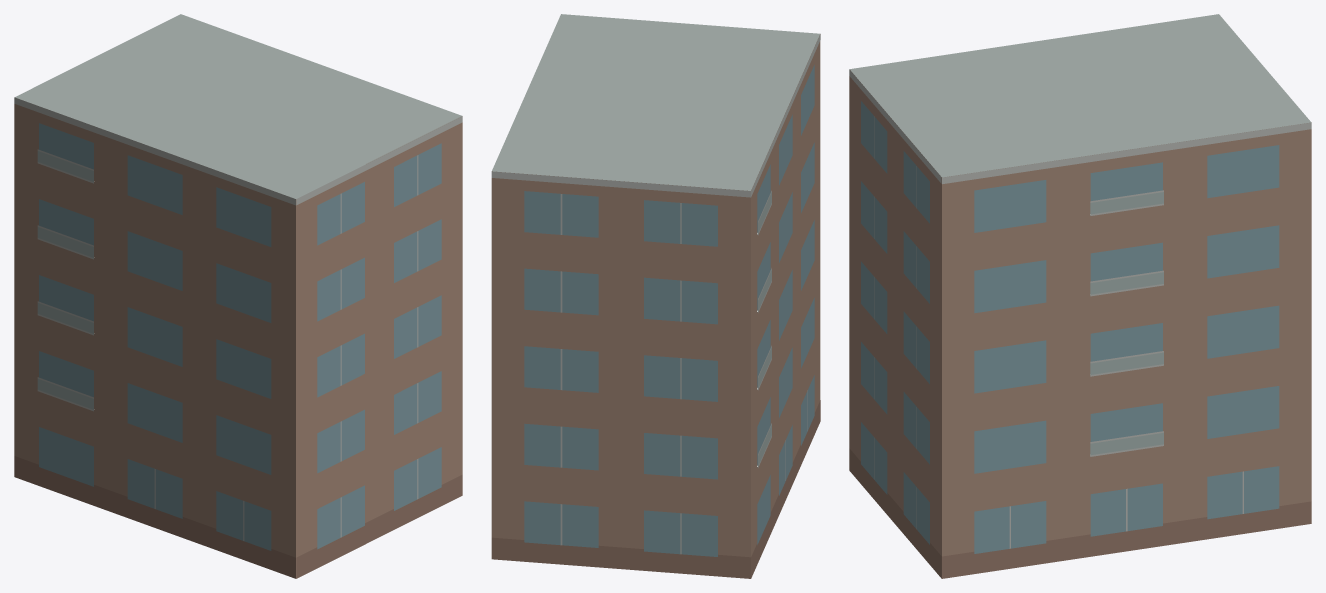
Rendered from survey-upis-32696807.glb.
3 views of the same model, side by side, from view 1: azimuth 30°, elevation 25°; view 2: azimuth 150°, elevation 25°; view 3: azimuth 270°, elevation 25° (orthographic). The views are drawn at different scales.
Visible parts, largest first — view 1: survey-upis-32696807.tmp; view 2: survey-upis-32696807.tmp; view 3: survey-upis-32696807.tmp.
Boxes of the visible parts, x1,y1,x2,y2 form: survey-upis-32696807.tmp: (14, 14, 462, 578); survey-upis-32696807.tmp: (491, 14, 820, 578); survey-upis-32696807.tmp: (849, 14, 1311, 578).
Size of the model in its own units: 12.68 by 14.5 by 15.14.
